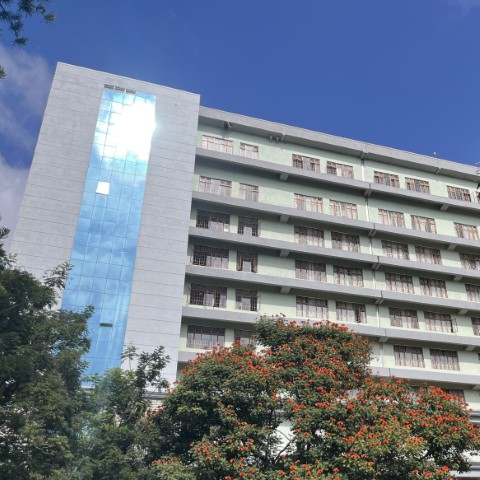Central Block: (21, 50, 480, 441)
